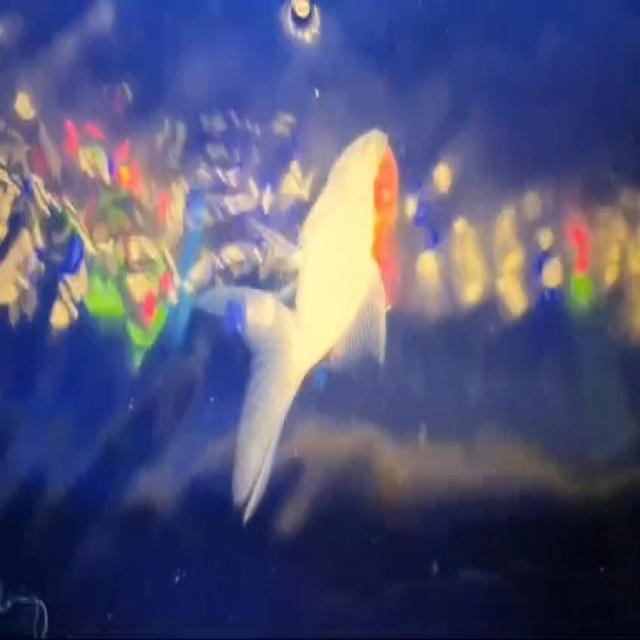fish: (228, 117, 412, 532)
